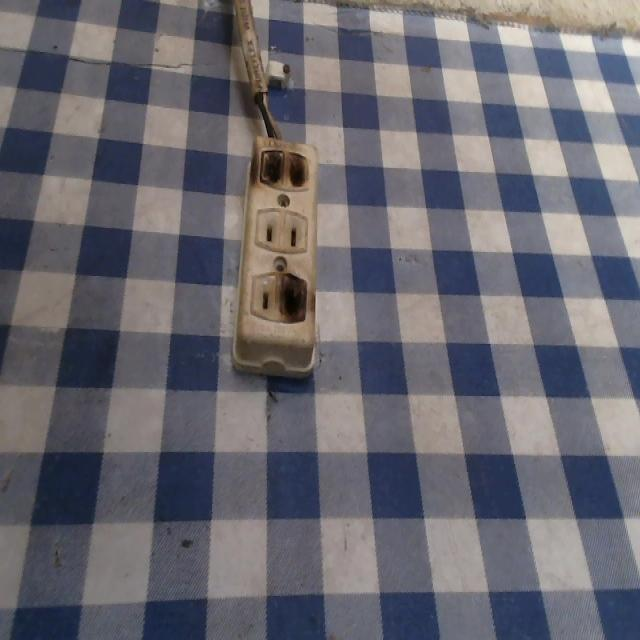-: (247, 138, 313, 194), (276, 267, 313, 324)
